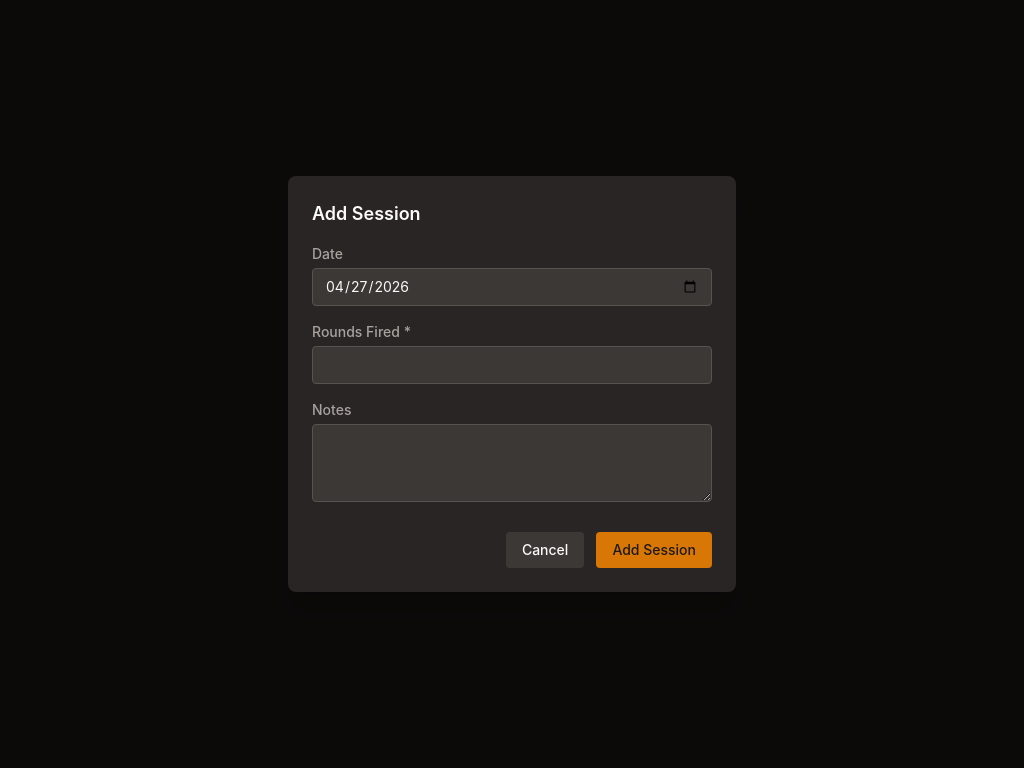
RoundCountForm › shows inline error when rounds_fired is negative
Type "-5" into the number field labelled "Rounds Fired *" at (512, 365), box 312,346 -> 712,384
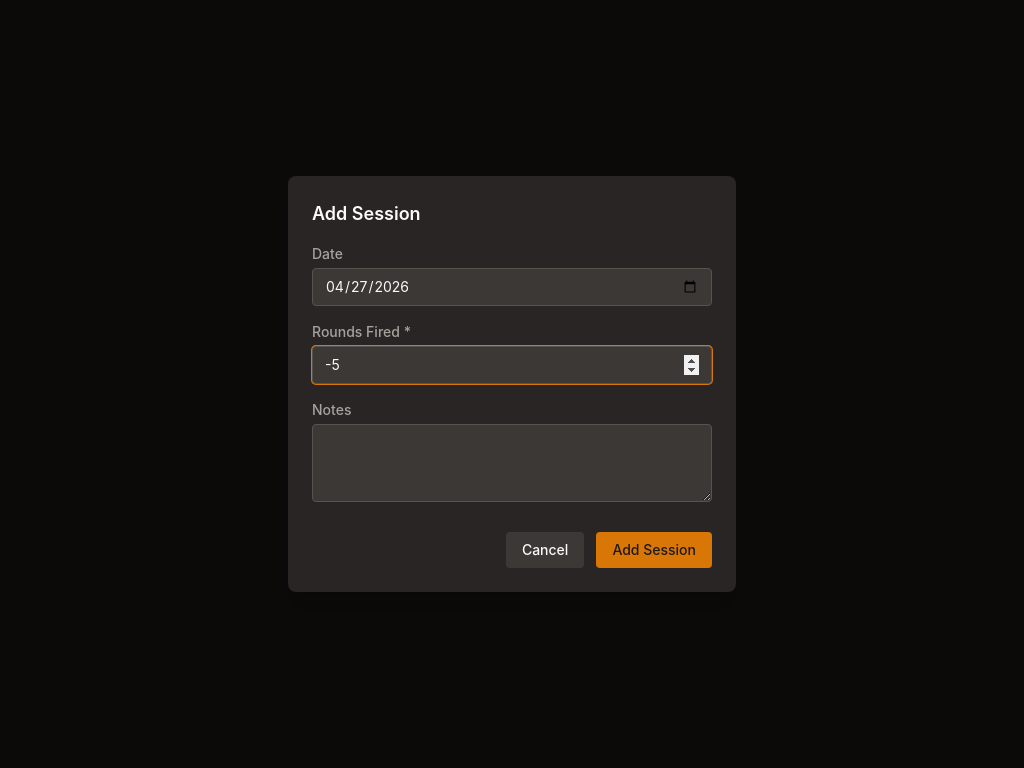
Click the button "Add Session" at (654, 550), box 596,532 -> 712,568
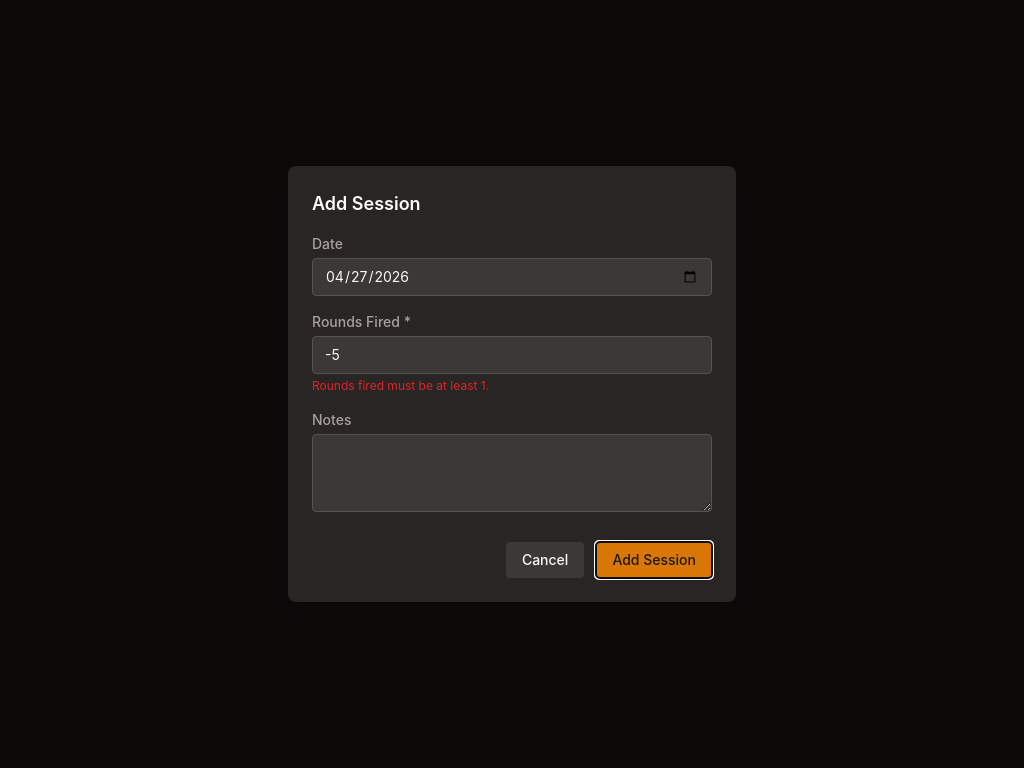
Now the text "Rounds fired must be at least 1." is shown, box 312,378 -> 489,393
